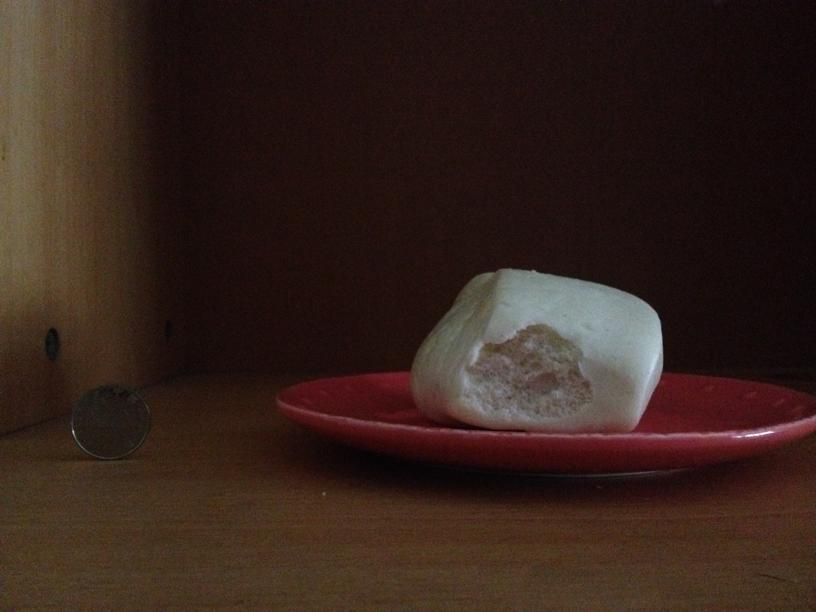bun: (412, 262, 660, 431)
coin: (68, 382, 153, 460)
